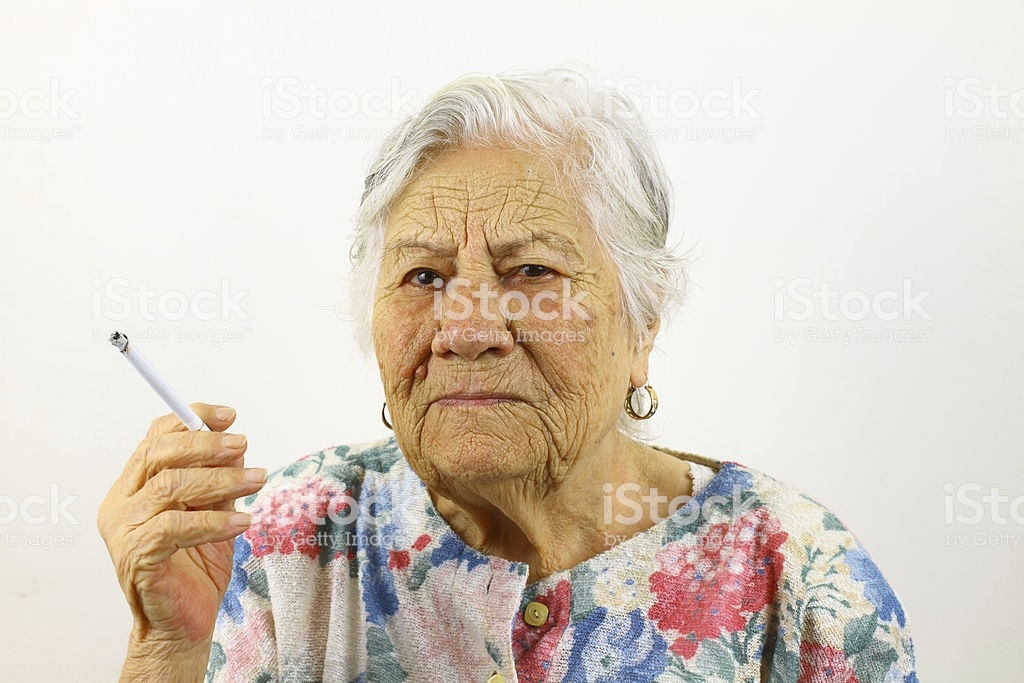sigaretta: (112, 337, 214, 438)
